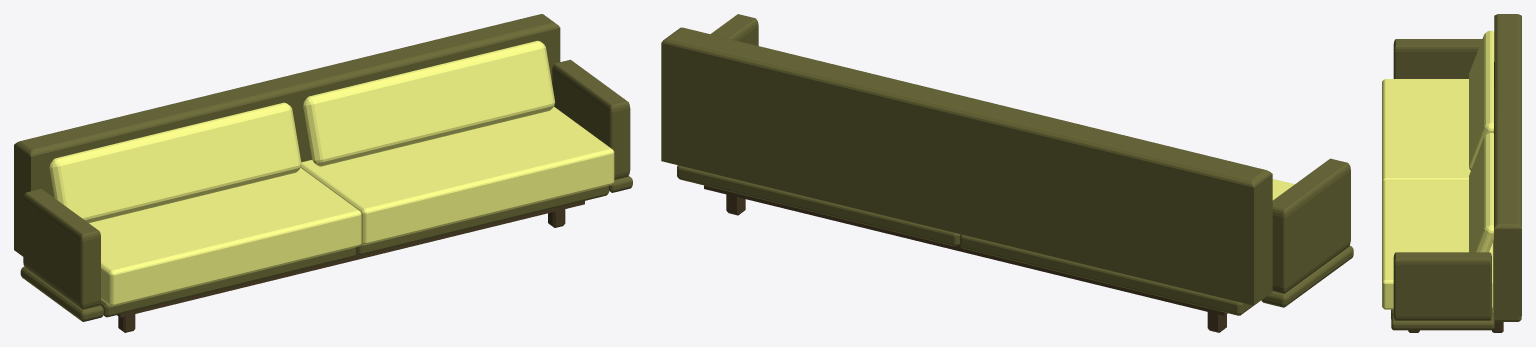
File: Sofa.fbx
3 renders of one model, left to right at view 1: azimuth 30°, elevation 25°; view 2: azimuth 150°, elevation 25°; view 3: azimuth 270°, elevation 25°, orthographic. The views are drawn at different scales.
Parts seen in each view (by area): view 1: Cube; view 2: Cube; view 3: Cube.
Boxes of the visible parts, x1,y1,x2,y2 form: Cube: [14, 14, 632, 332]; Cube: [661, 14, 1353, 332]; Cube: [1382, 14, 1521, 332].
Size of the model in its own units: 10.14 by 2.69 by 2.69.
